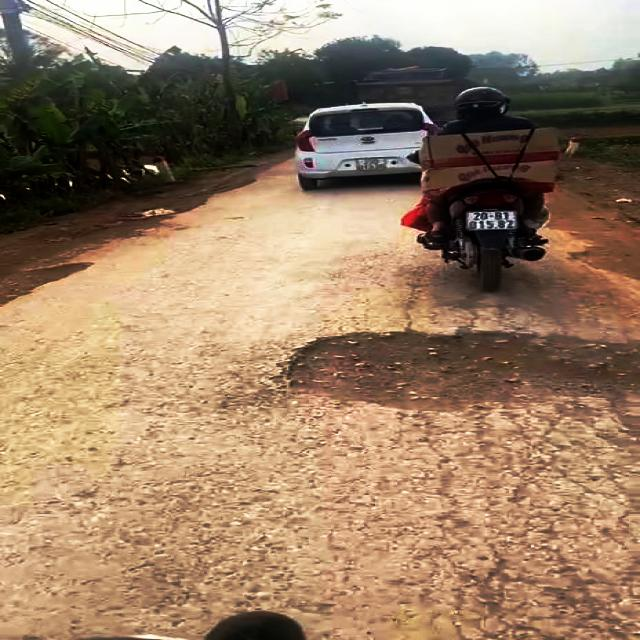pothole: (273, 328, 640, 415), (0, 259, 101, 313)
